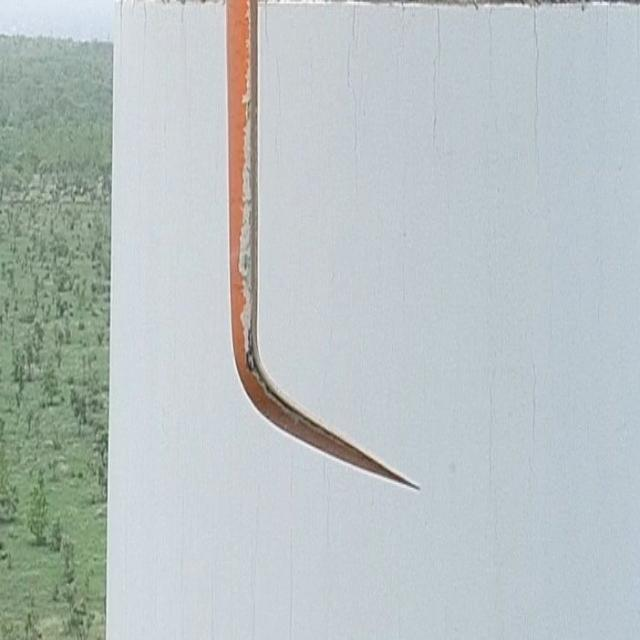EROSION: (229, 260, 326, 441)
